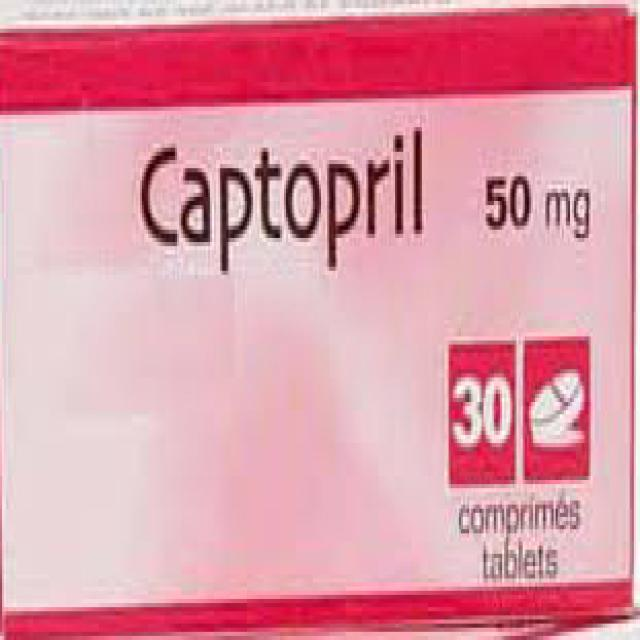drug-name: (138, 122, 436, 280)
